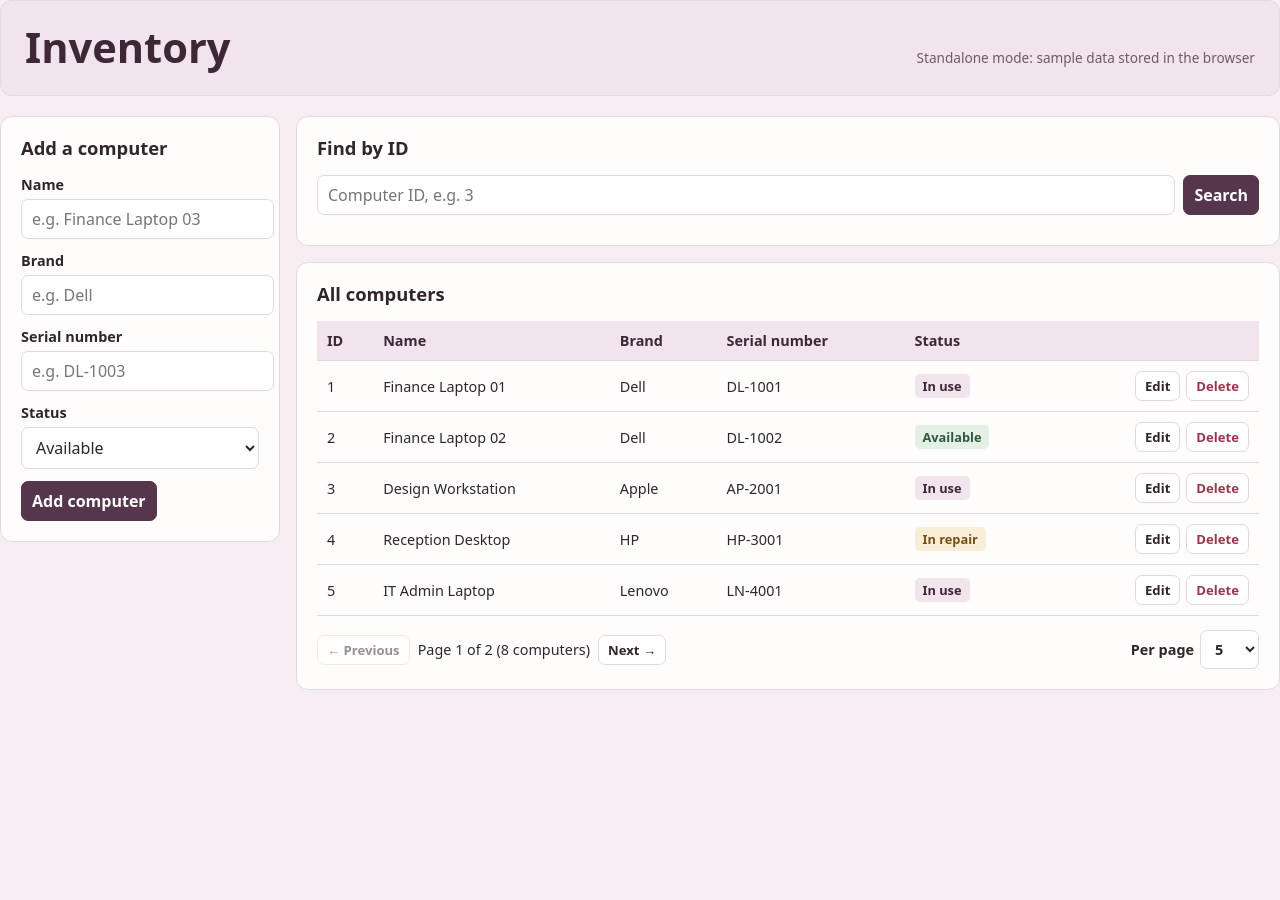
Scenario: Inventory page (standalone mode) › shows validation messages and does not save invalid input
Clear the field labelled "Name": [148, 219] box [21,199,274,239]
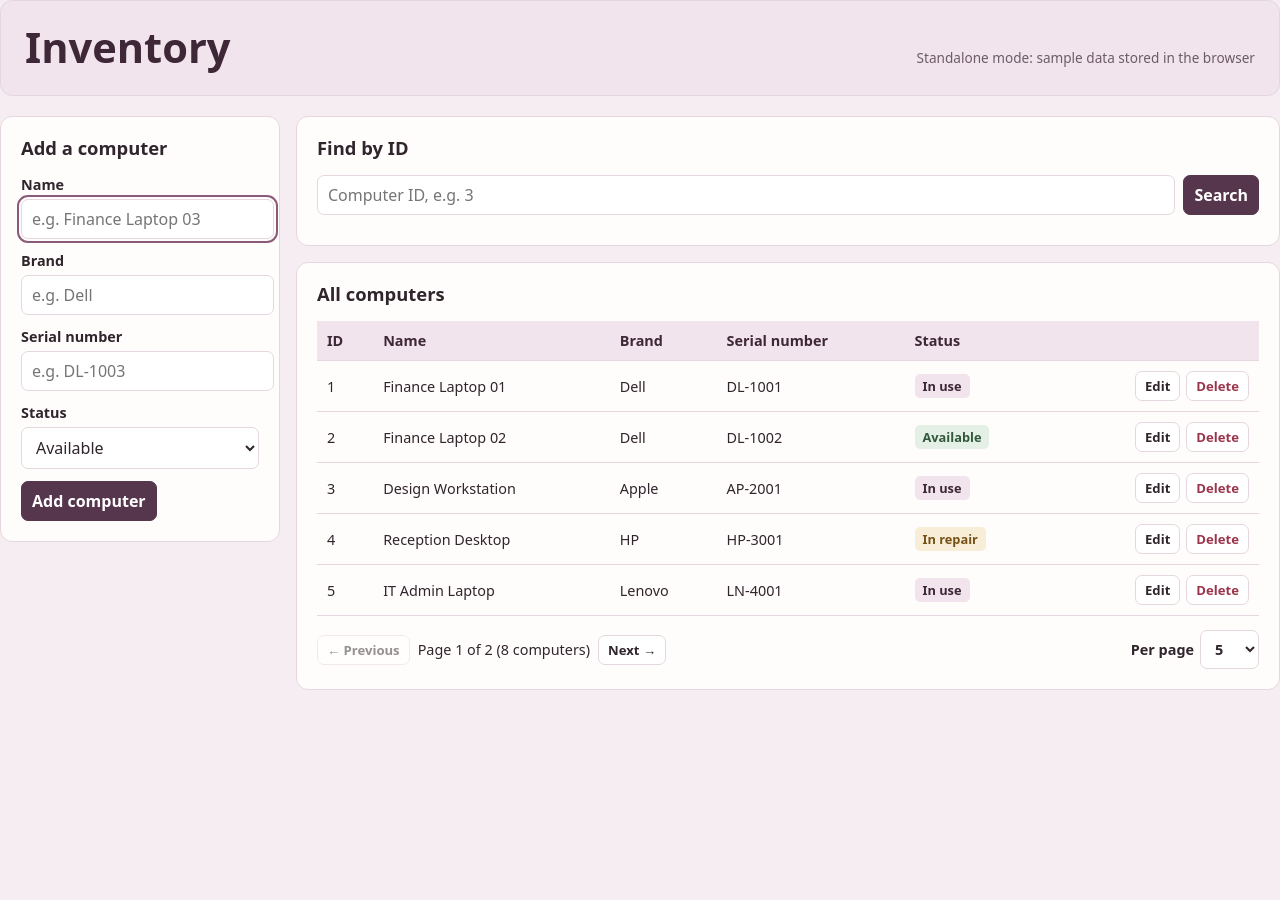
Clear the field labelled "Brand": [148, 295] box [21,275,274,315]
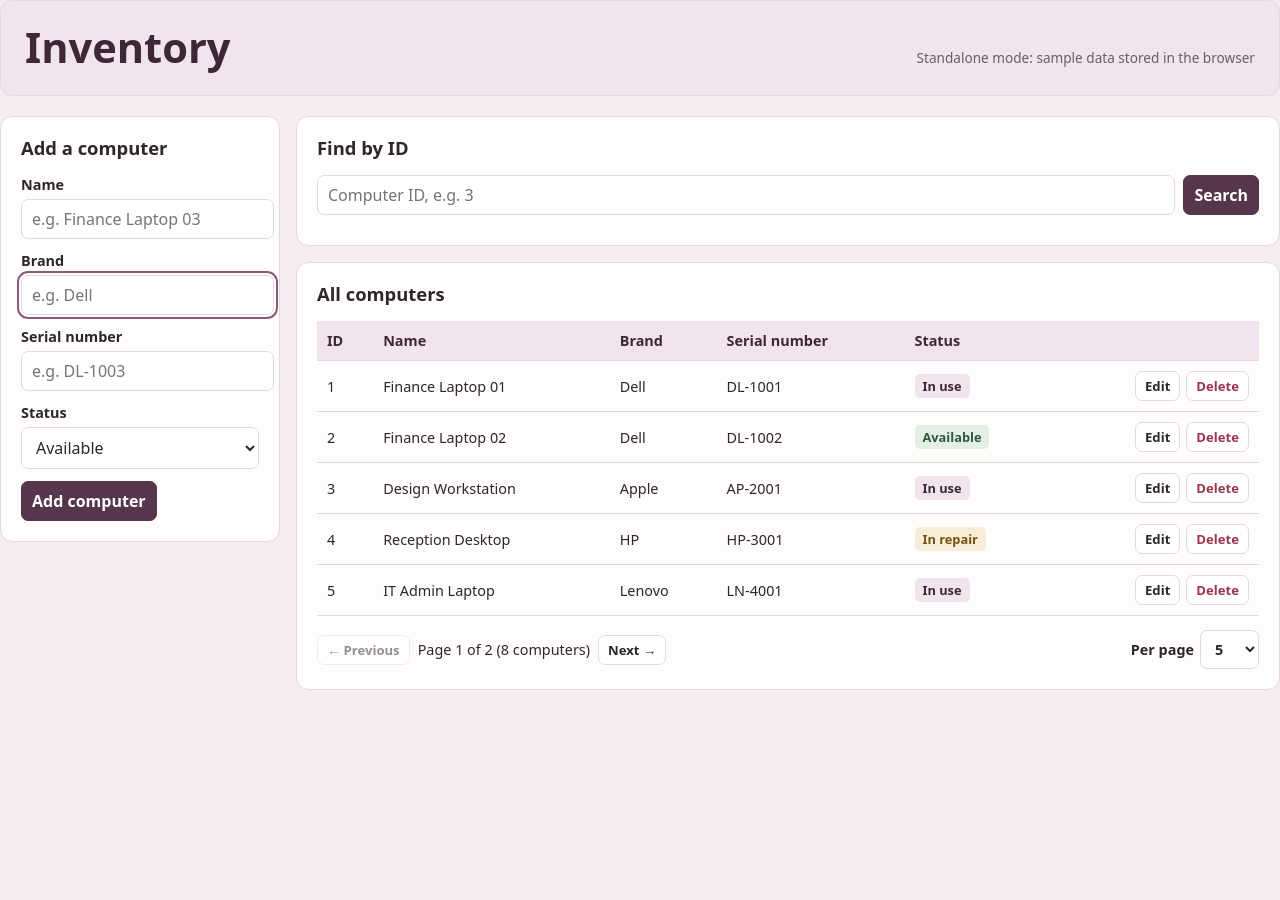
Clear the field labelled "Serial number": [148, 371] box [21,351,274,391]
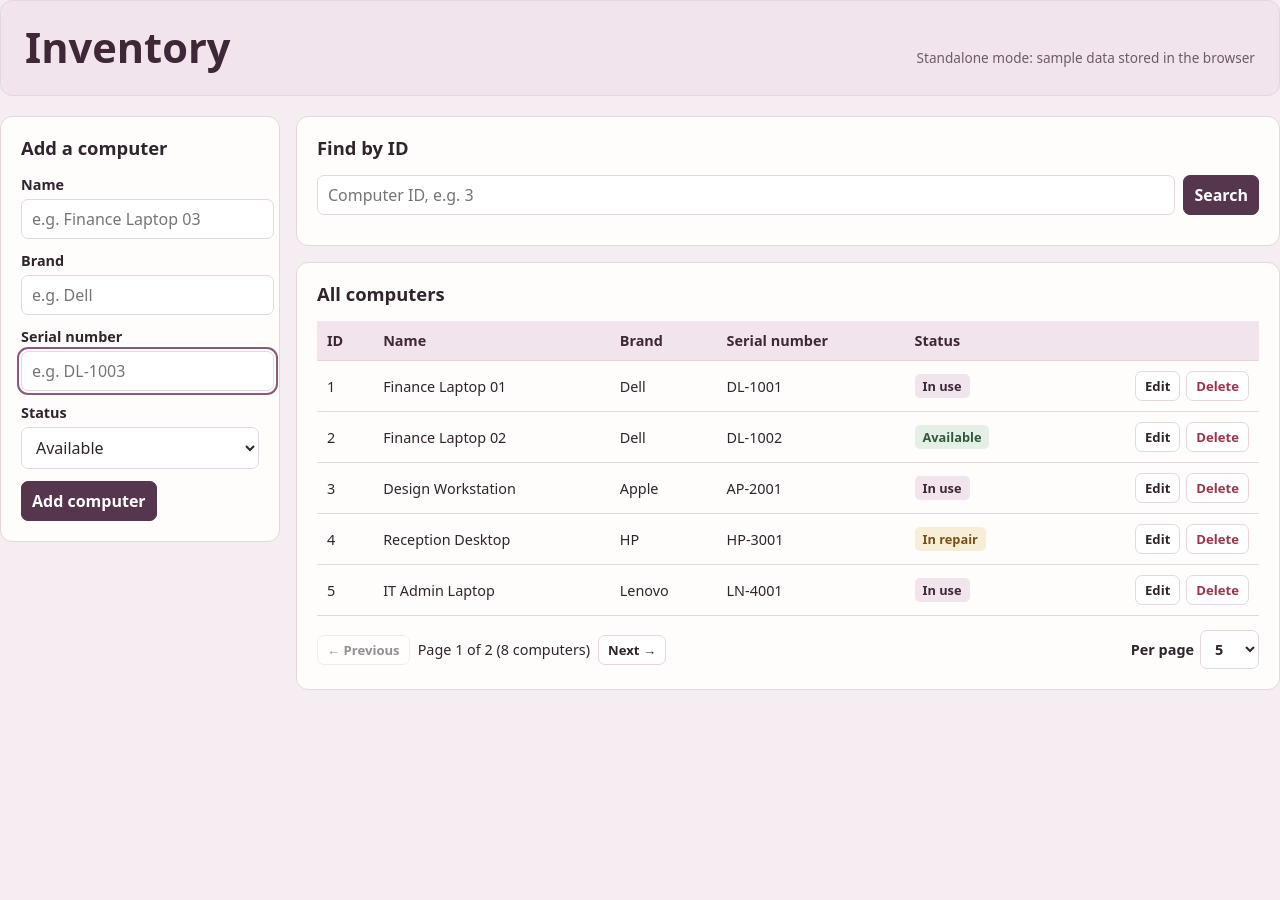
In the field labelled "Brand": [148, 295] box [21,275,274,315], type "X"
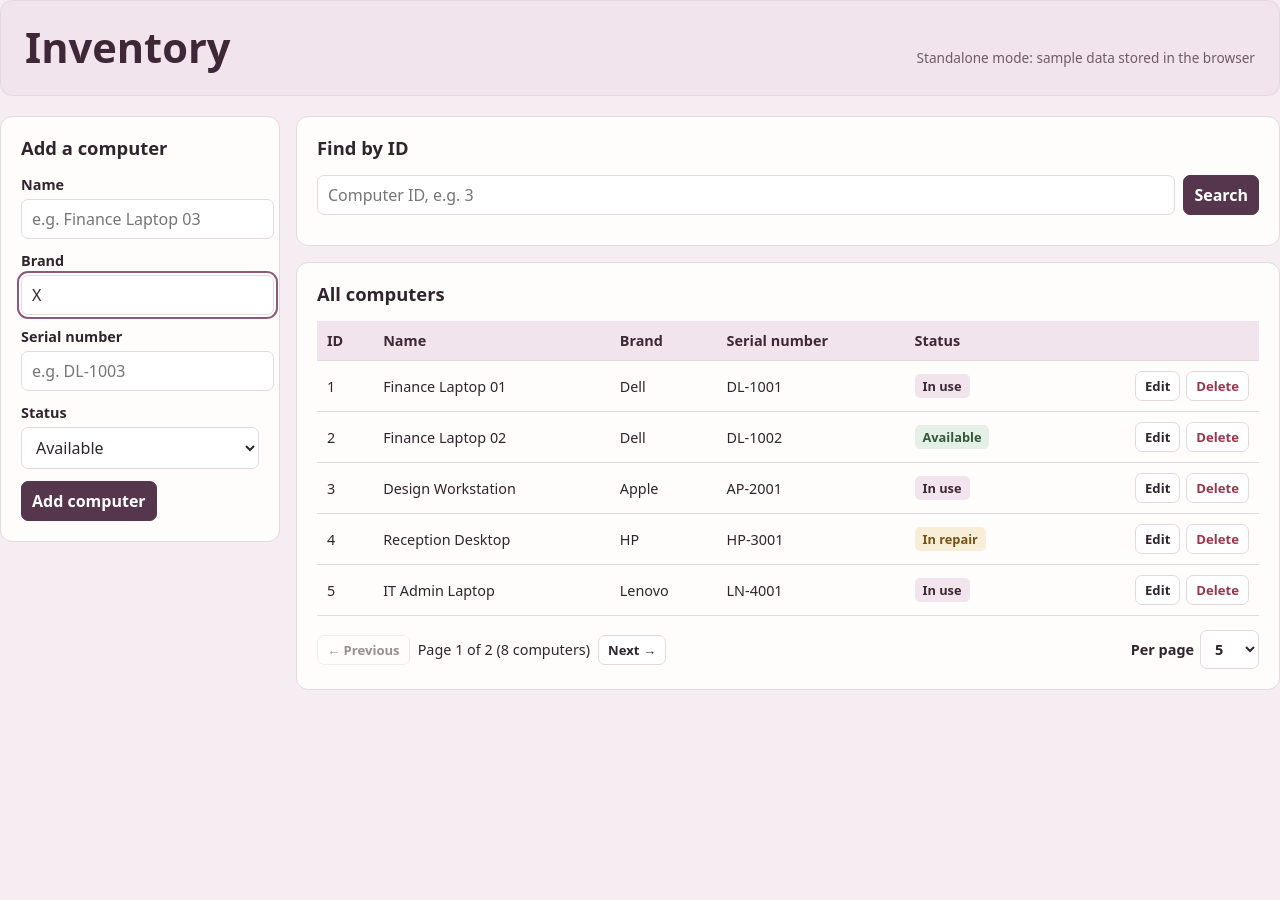
In the field labelled "Serial number": [148, 371] box [21,351,274,391], type "bad serial!"
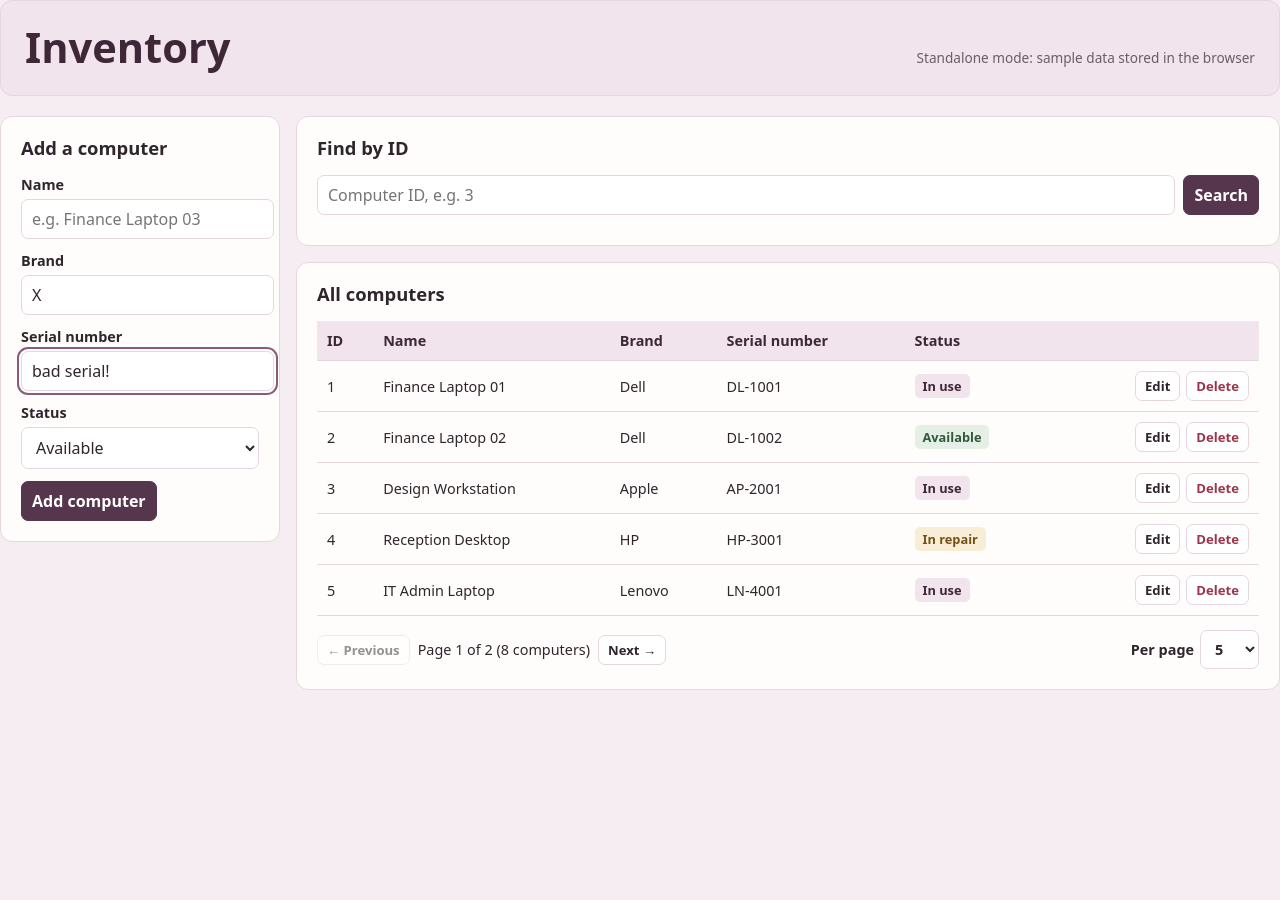
Click the button "Add computer": [89, 501] box [21,481,157,521]
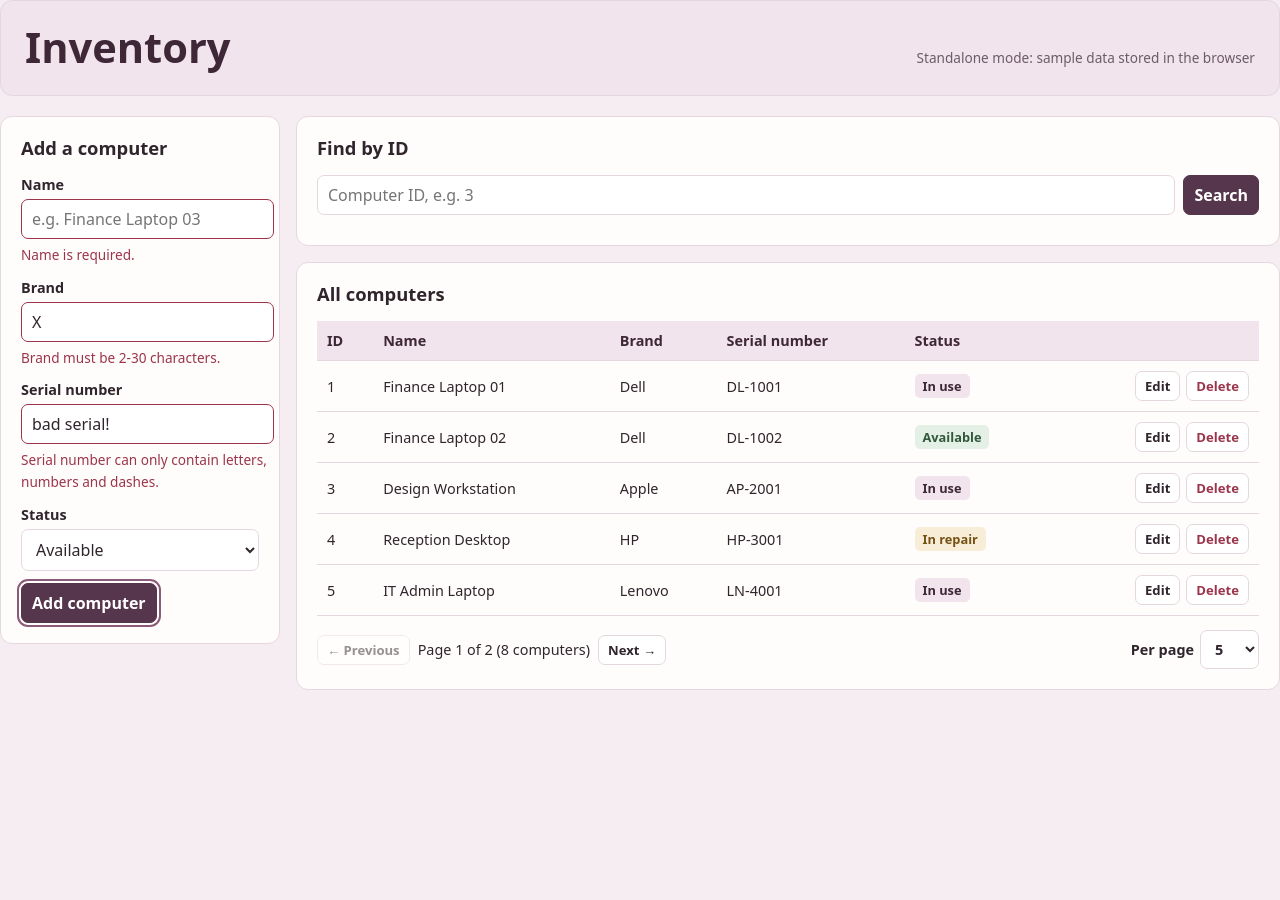
Result: the text "Name is required." is shown at [21,245,135,264]
Result: the text "Brand must be 2-30 characters." is shown at [21,348,220,367]
Result: the text "Serial number can only contain letters, numbers and dashes." is shown at [21,450,274,493]
